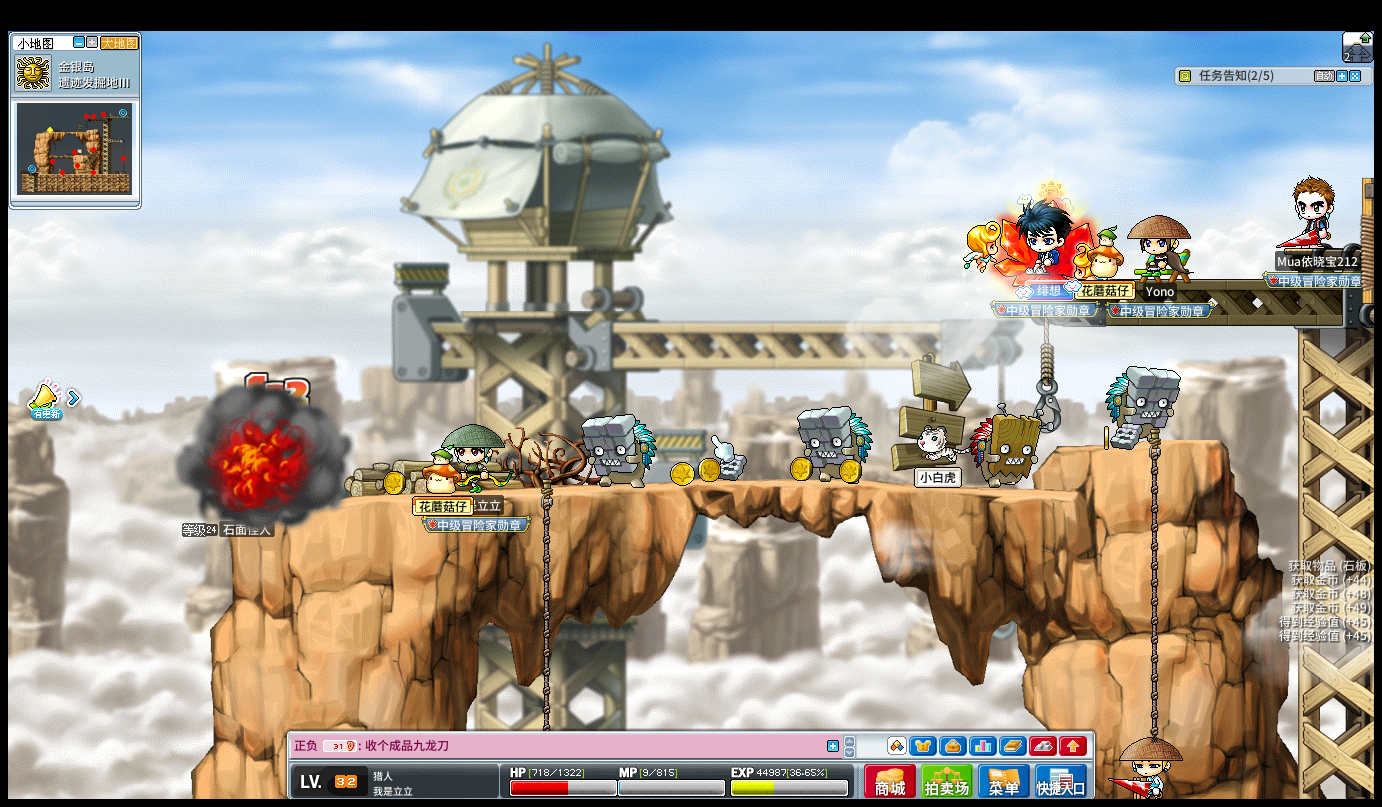floor: (278, 474, 1126, 502), (379, 475, 1091, 498), (1058, 435, 1225, 452)
monster: (277, 416, 351, 520), (970, 406, 1049, 489), (1103, 364, 1181, 448), (796, 405, 873, 484), (582, 413, 656, 489)
rope: (1145, 423, 1161, 737), (539, 476, 552, 694), (1146, 634, 1159, 739)
